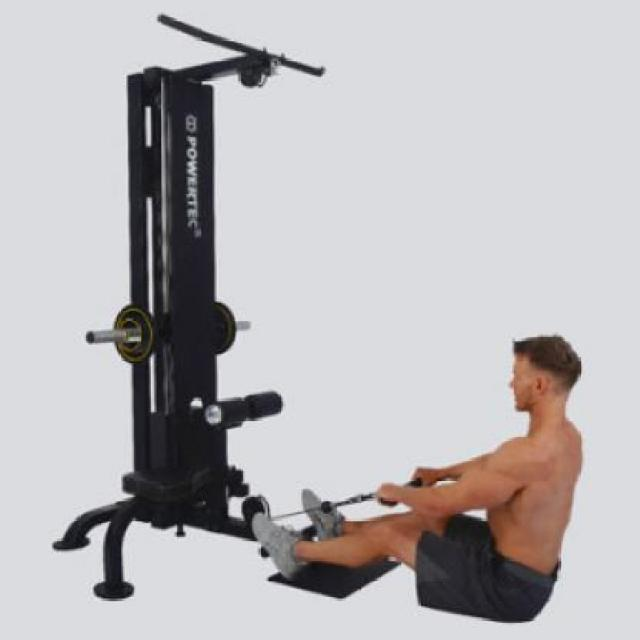Seated Cable Rows: (24, 4, 640, 640)
